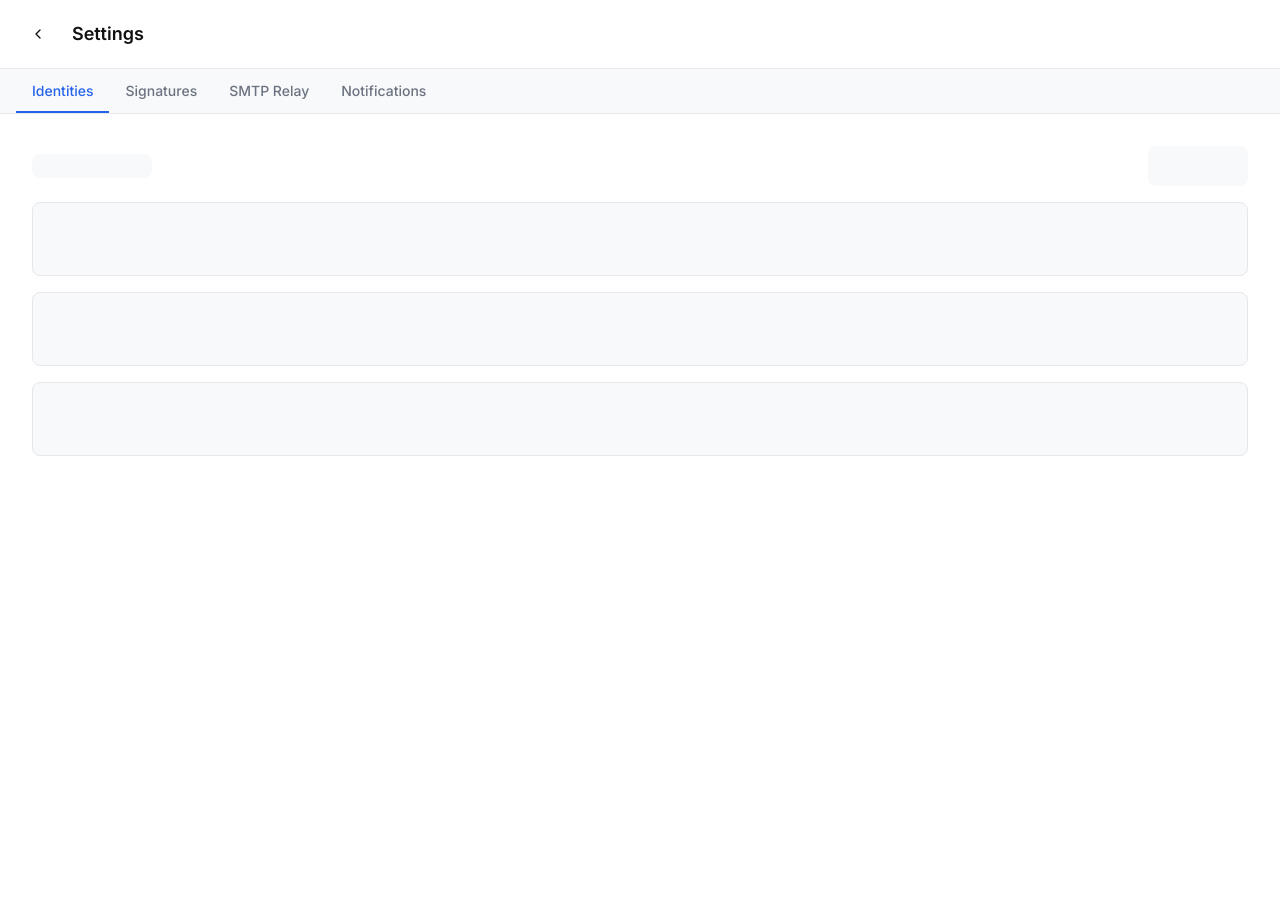
Test: Settings › signatures tab › edit button opens edit dialog with pre-filled fields
Click the tab "Signatures".
click(161, 91)  # box [110,69,213,113]
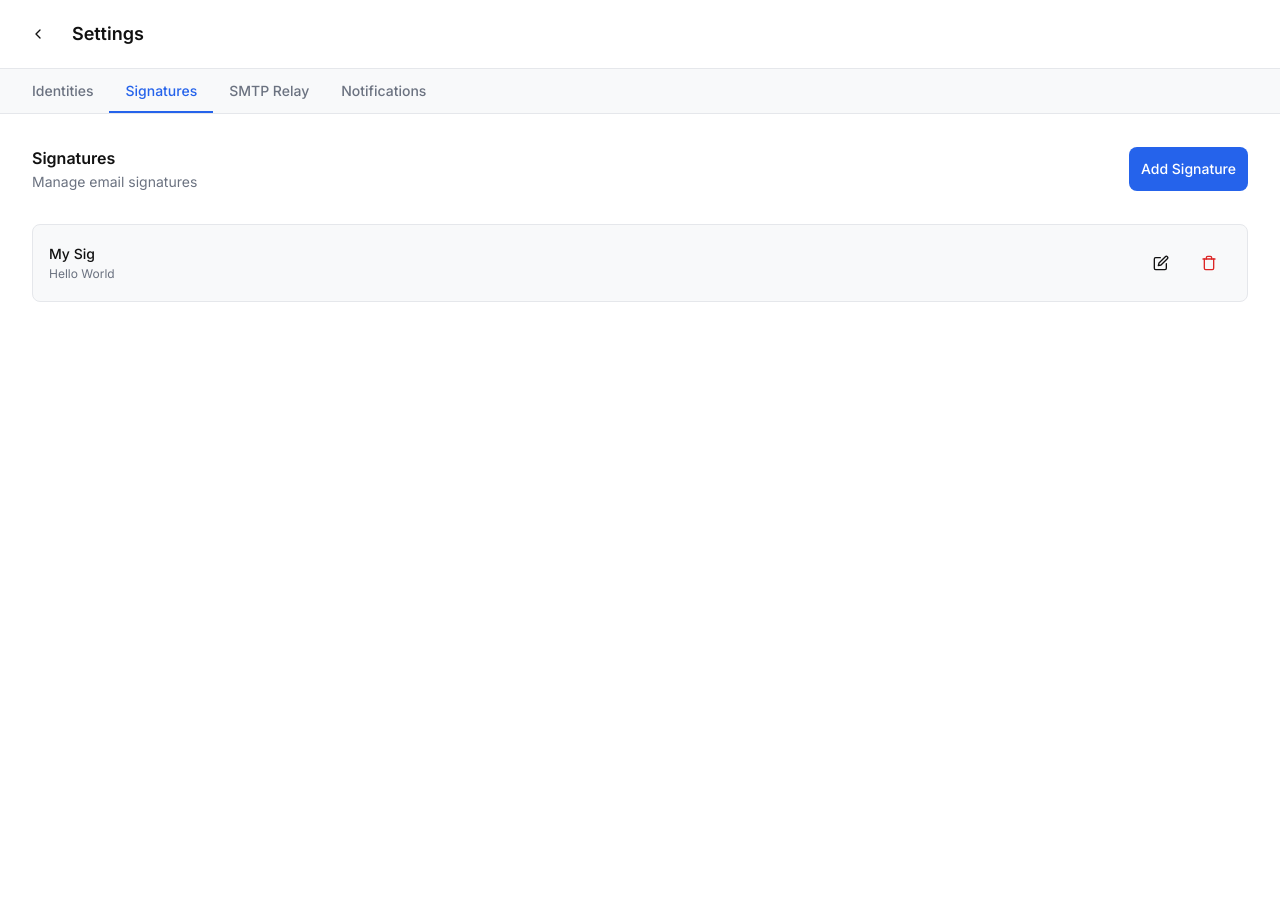
Check: the text "My Sig" is shown, box [49,244,95,264]
Click the button named "Edit My Sig".
click(1161, 263)  # box [1139,241,1183,285]
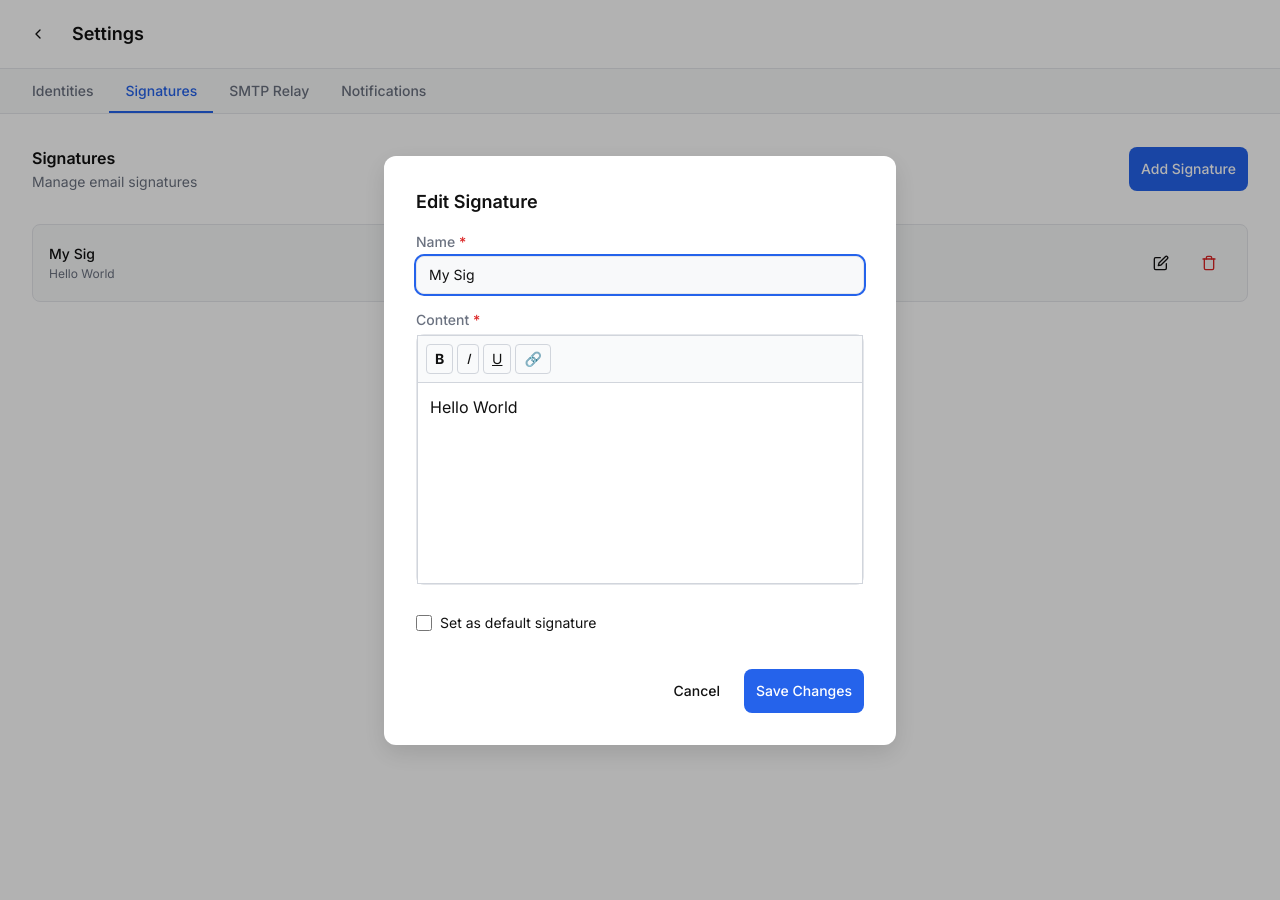
Check: the heading "Edit Signature" is shown, box [416,190,538,212]
Check: the field labelled "Name *" holds "My Sig", box [416,256,864,294]
Check: the field with test id "signature-content-editor" is shown, box [416,334,864,584]
